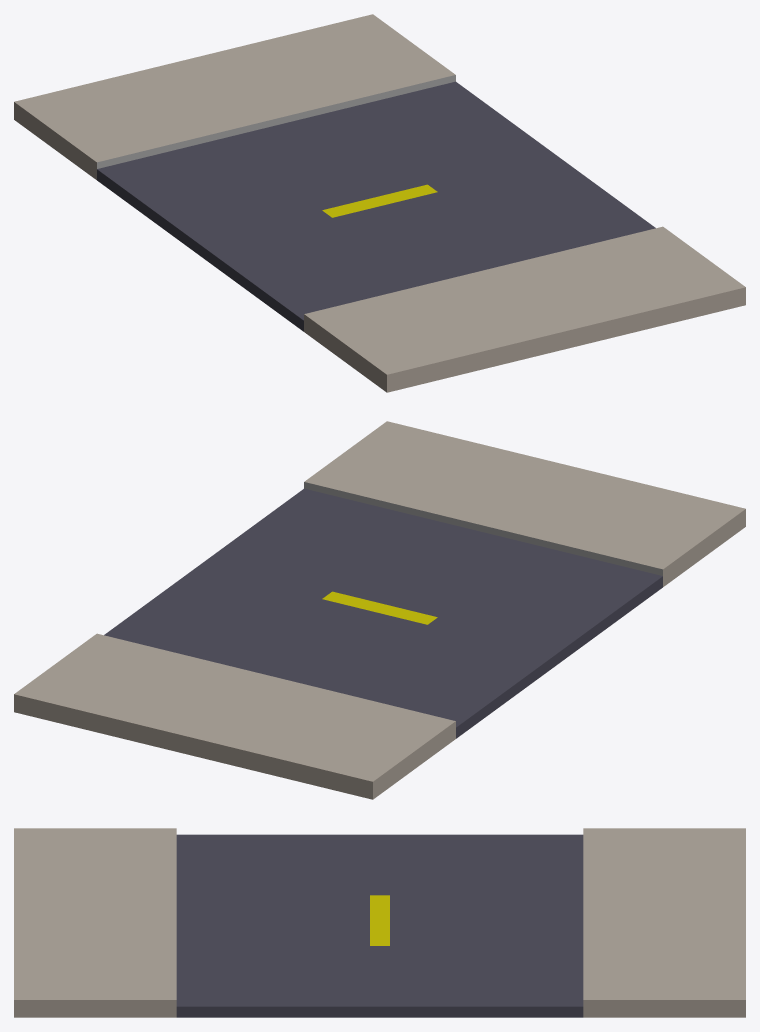
The model's file is Small_Road.fbx.
3 renders of one model, top to bottom at view 1: azimuth 30°, elevation 25°; view 2: azimuth 150°, elevation 25°; view 3: azimuth 270°, elevation 25°, orthographic.
Parts seen in each view (by area): view 1: Small_Road; view 2: Small_Road; view 3: Small_Road.
Part boxes in pixels (box(x1,y1,x2,y2)): Small_Road: box(14, 14, 745, 392); Small_Road: box(14, 421, 745, 799); Small_Road: box(14, 828, 745, 1017).
Size of the model in its own units: 10 by 0.4785 by 18.
